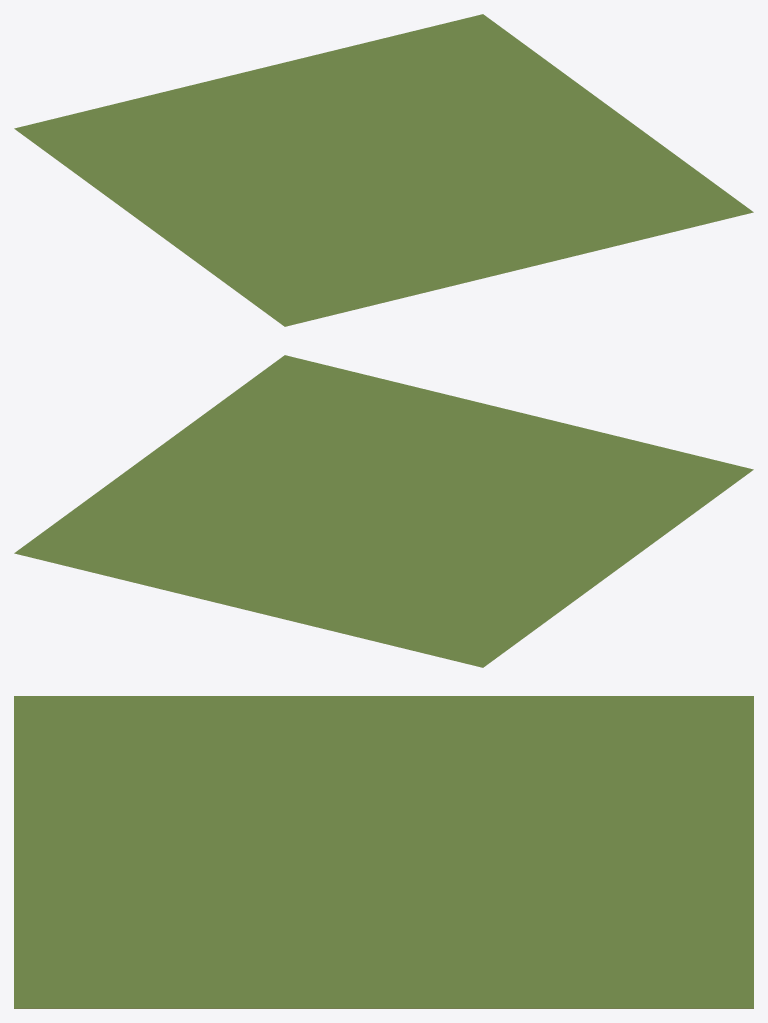
Rendered from region_3_3.glb.
3 views of the same model, one above another, from view 1: azimuth 30°, elevation 25°; view 2: azimuth 150°, elevation 25°; view 3: azimuth 270°, elevation 25° (orthographic). The views are drawn at different scales.
Visible parts, largest first — view 1: OD_Meadow.033; view 2: OD_Meadow.033; view 3: OD_Meadow.033, OD_Ground.033.
Boxes of the visible parts, left/top/right/bottom form: OD_Meadow.033: left=14, top=14, right=753, bottom=326; OD_Meadow.033: left=14, top=355, right=753, bottom=667; OD_Meadow.033: left=14, top=696, right=753, bottom=1008; OD_Ground.033: left=14, top=1008, right=753, bottom=1008.
Bounding box in the file's own units: 31.52 × 0.00518 × 31.52.
